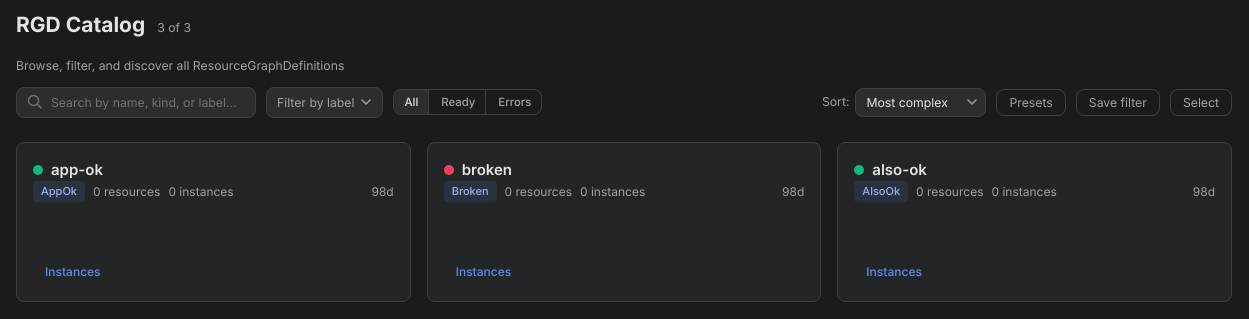
Test: Catalog › Errors filter shows only error-state RGDs
Expected: the element with test id "catalog-card-app-ok" is shown, [16,142,411,302]
Click the button with test id "catalog-status-errors" at [515, 102], box [488,90,541,114]
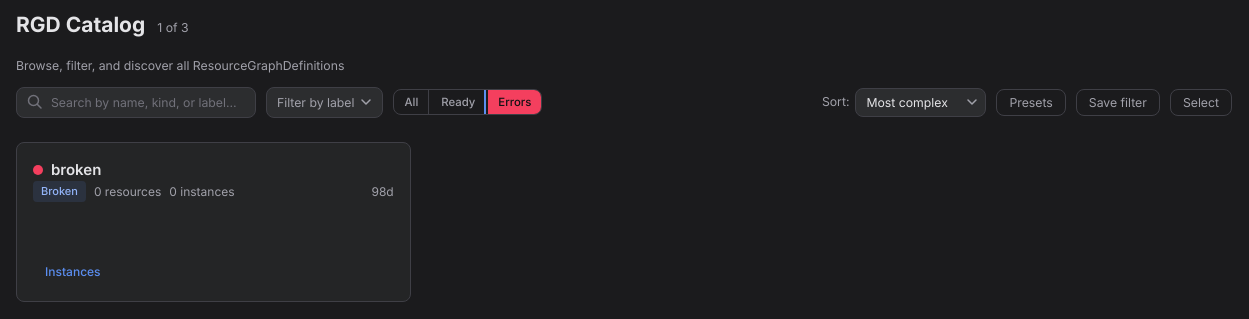
Expected: the element with test id "catalog-card-app-ok" is gone
Expected: the element with test id "catalog-card-also-ok" is gone
Expected: the text "1 of 3" is shown, [157,19,189,37]
